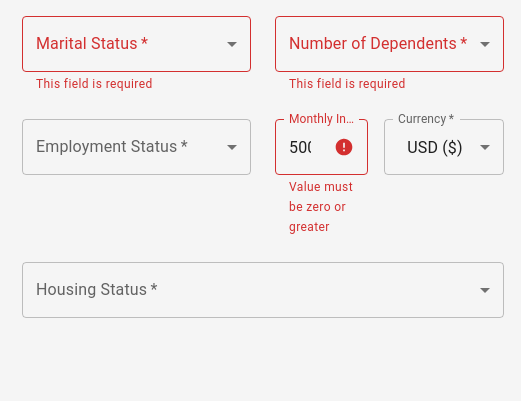
it: Step2FamilyFinancial Component › renders employment status dropdown with all options
Click the dropdown named "employment status". click: (136, 147)
box: [22,119,251,175]
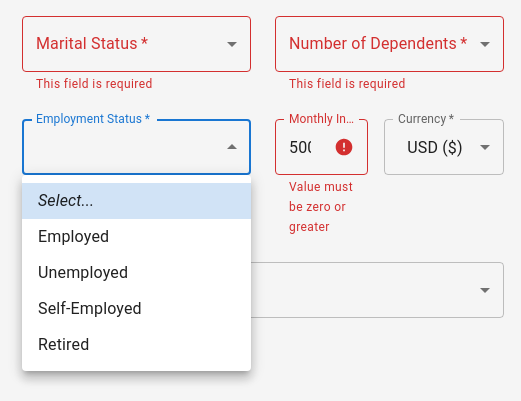
Expected: the option "Employed" is shown, [38,227,109,246]
Expected: the option "Unemployed" is shown, [38,263,128,282]
Expected: the option "Self-Employed" is shown, [38,299,142,318]
